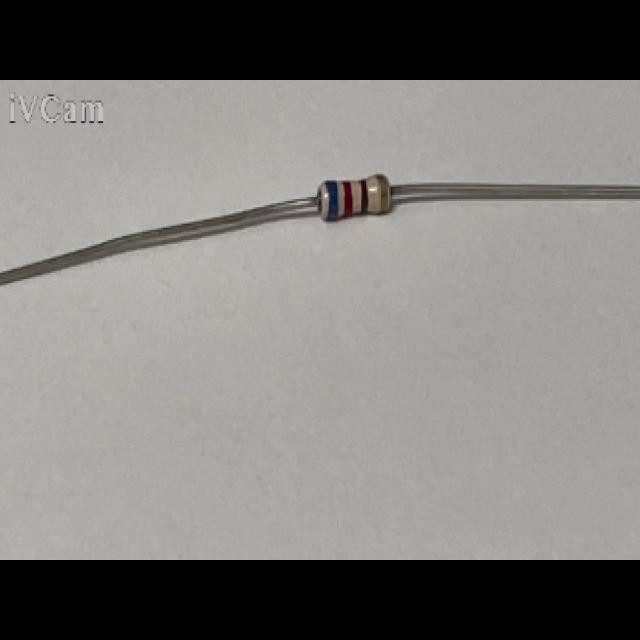Resistor Carbon-Film: (319, 173, 393, 222)
